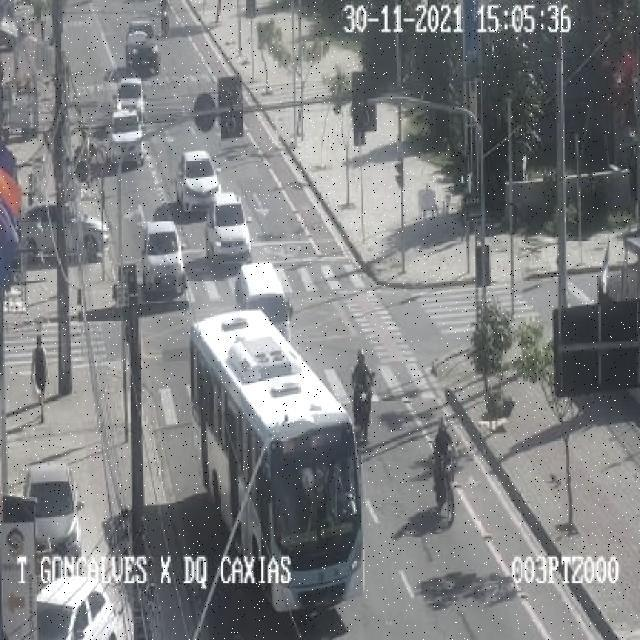Bus: (184, 306, 366, 615)
Car: (22, 462, 82, 558), (20, 202, 110, 264), (38, 576, 125, 640), (235, 260, 290, 330), (140, 220, 187, 300), (206, 192, 252, 262), (178, 149, 219, 212), (110, 108, 147, 164), (125, 21, 159, 73), (114, 78, 147, 116)
Cycle: (430, 449, 462, 528), (348, 378, 376, 447), (158, 0, 172, 38)
